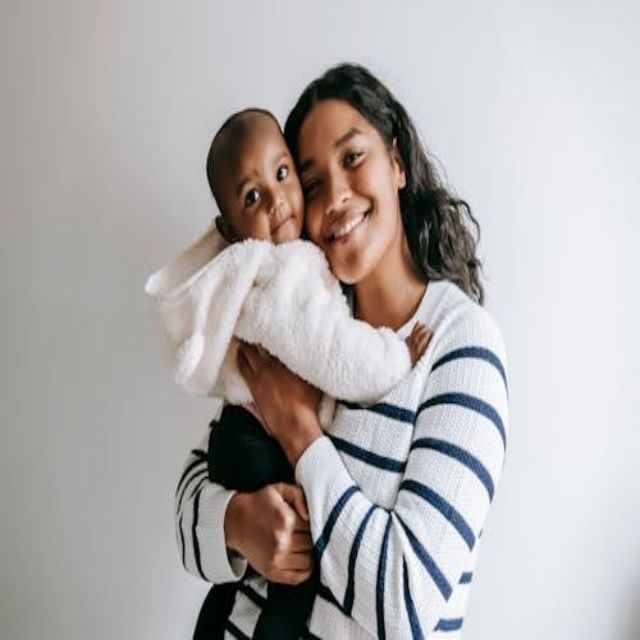Sin_gafas: (300, 117, 378, 196), (232, 148, 296, 217)
Sin_guantes: (233, 482, 316, 585)
Sin_mascara: (314, 188, 381, 277), (266, 211, 296, 246)
